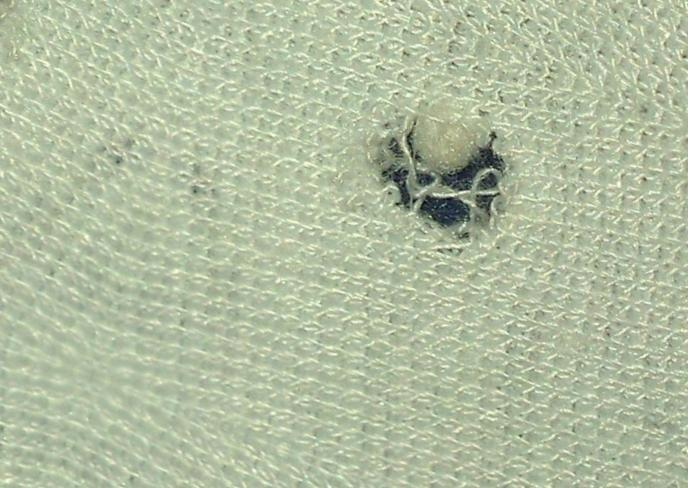hole: (398, 91, 506, 179)
